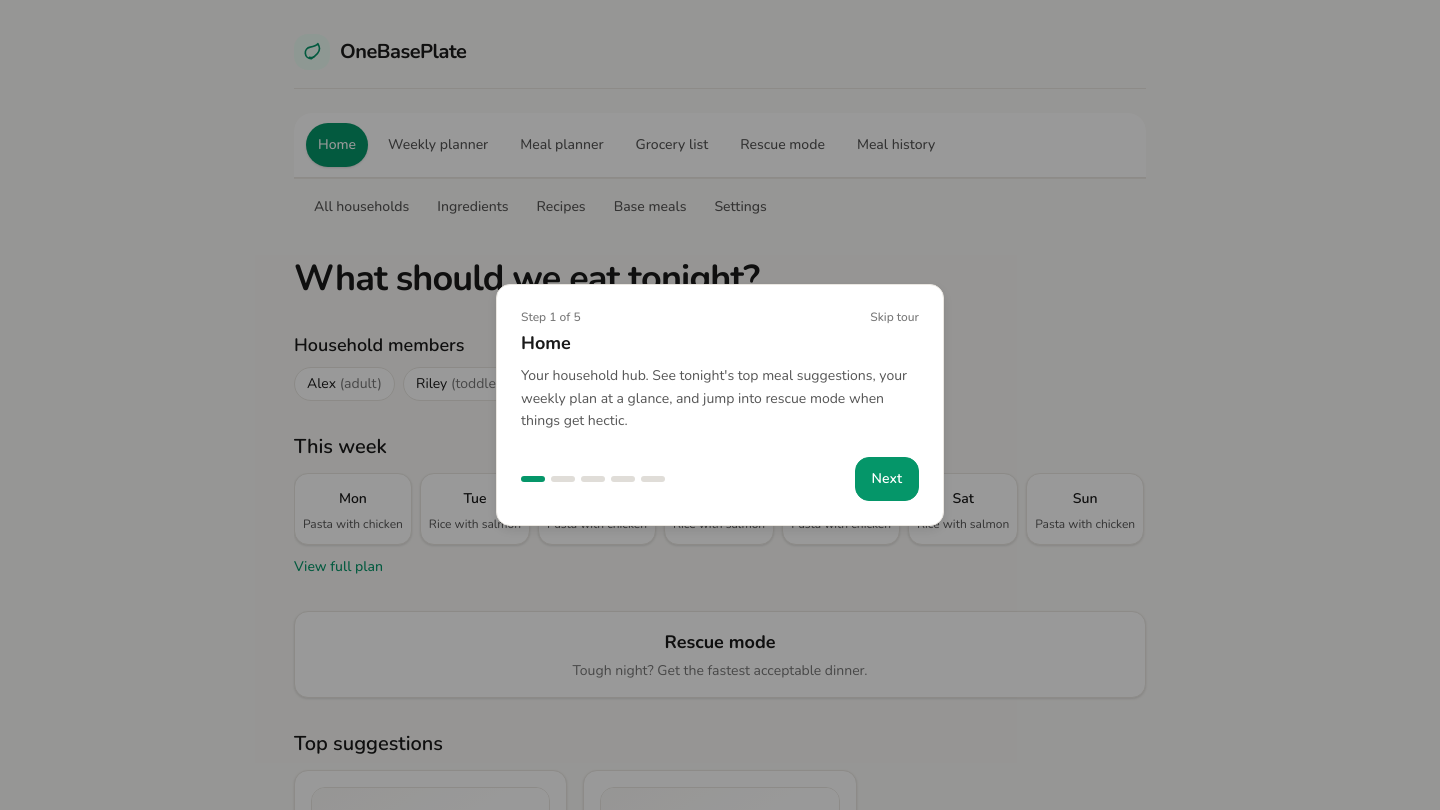
Test: F021: Home screen with compact weekly strip › opens and closes day details modal from strip card
Click the button with test id "tour-skip" at (895, 317), box [870,309,919,325]
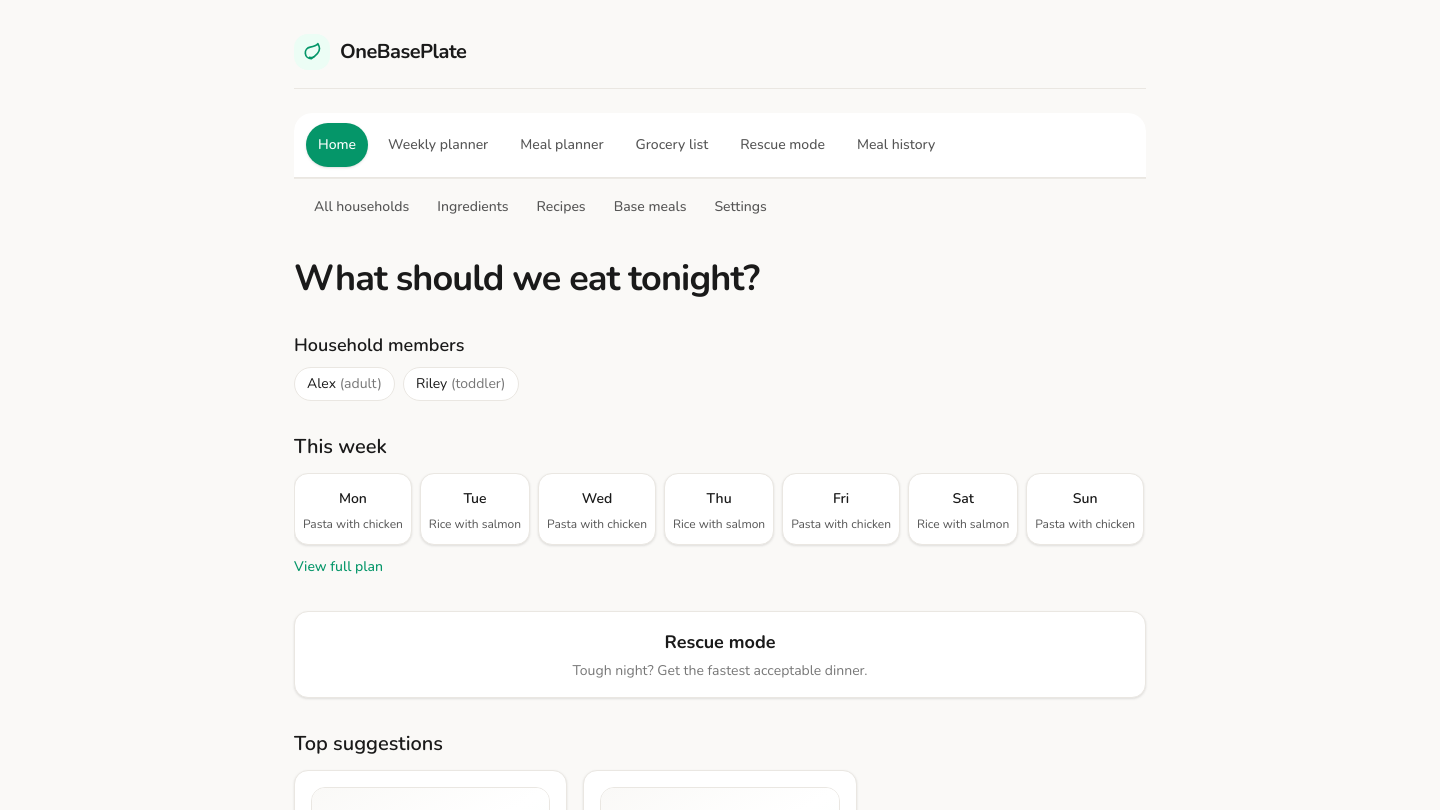
Click the button with test id "strip-mon" at (353, 509), box [294,473,412,545]
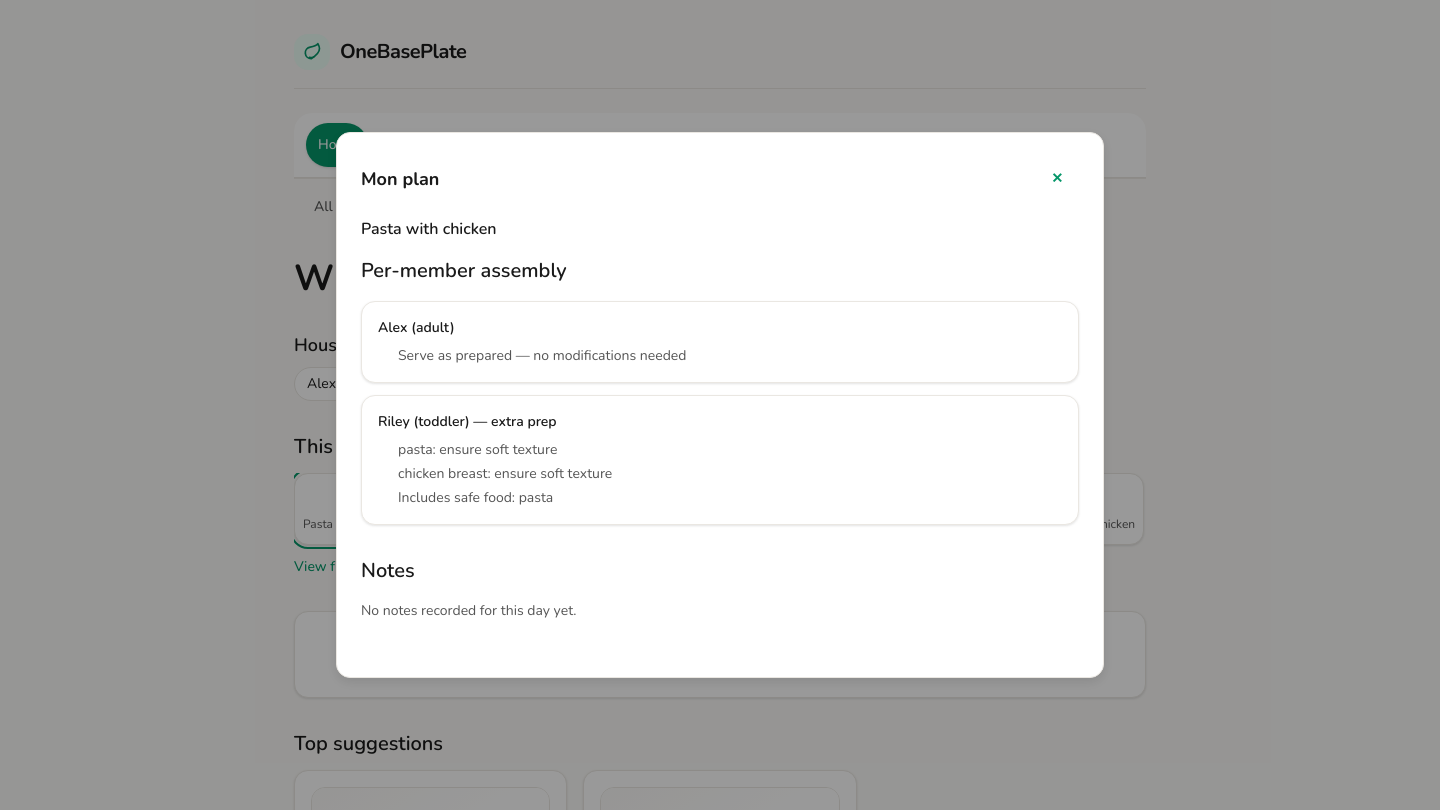
Check: the dialog named "Day details" is shown
Check: the element with test id "day-details-modal" is shown, box [361,157,1079,621]
Click the dialog named "Day details" at (86, 405), box [0,0,1439,809]
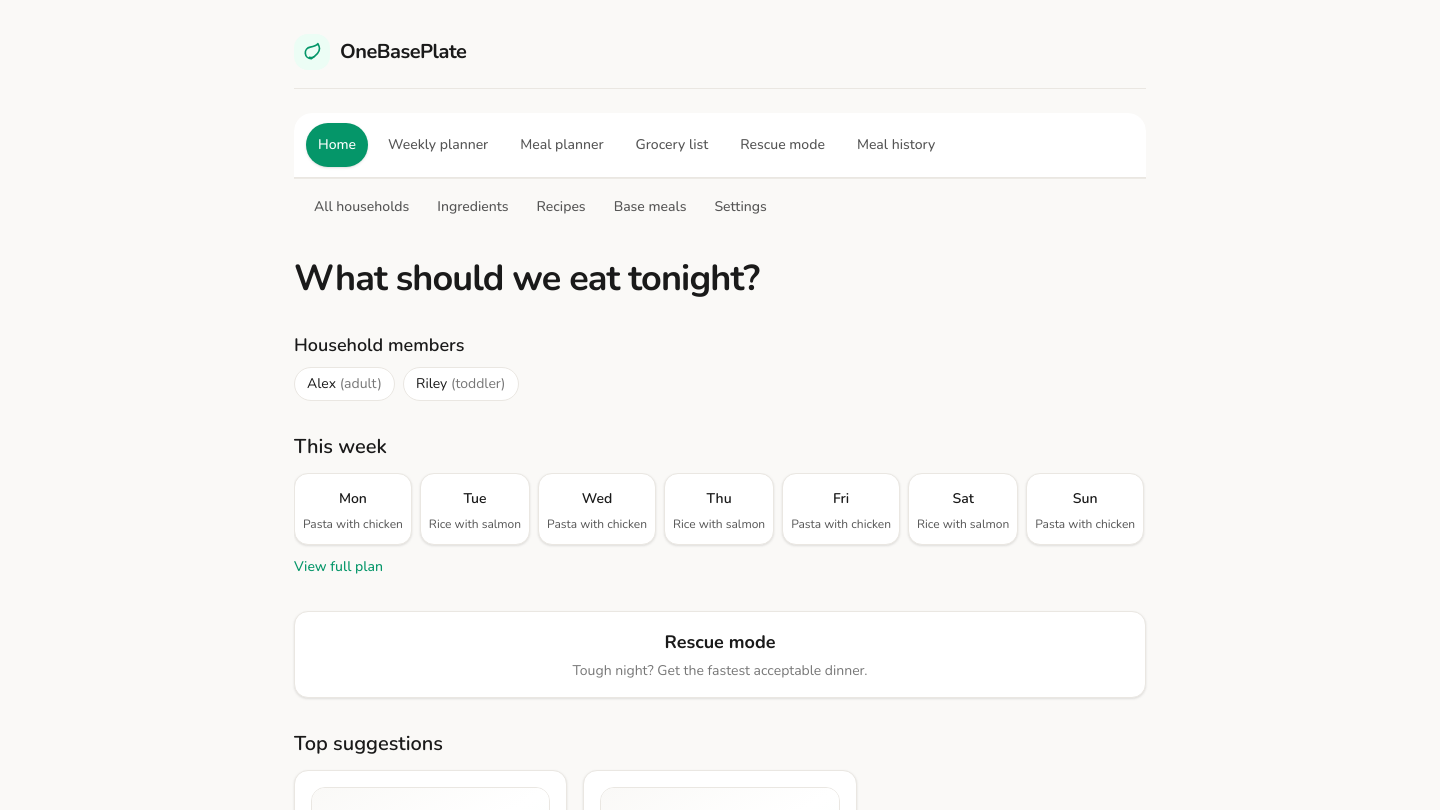
Check: the element with test id "day-details-modal" is gone
